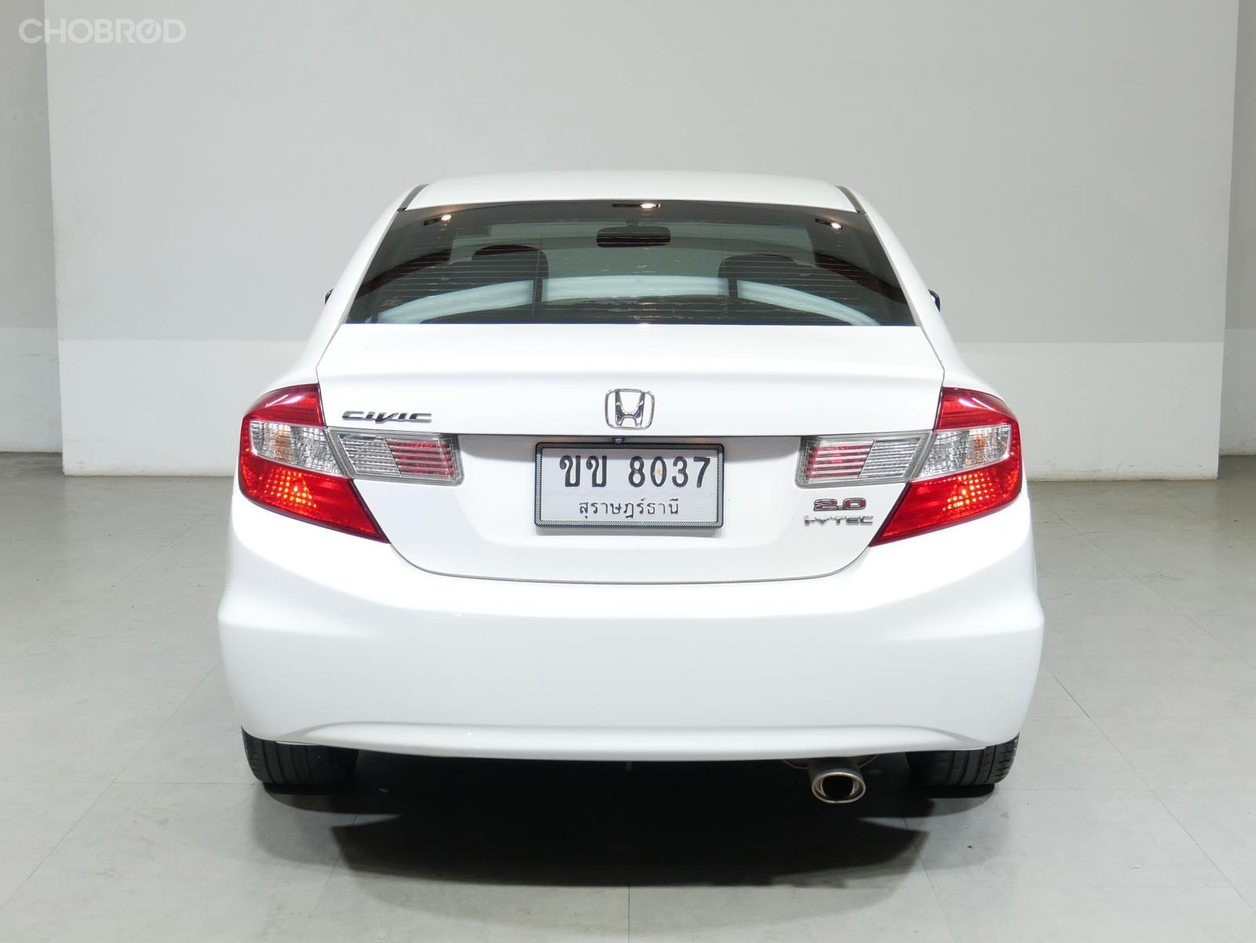license-plate: (529, 425, 730, 544)
